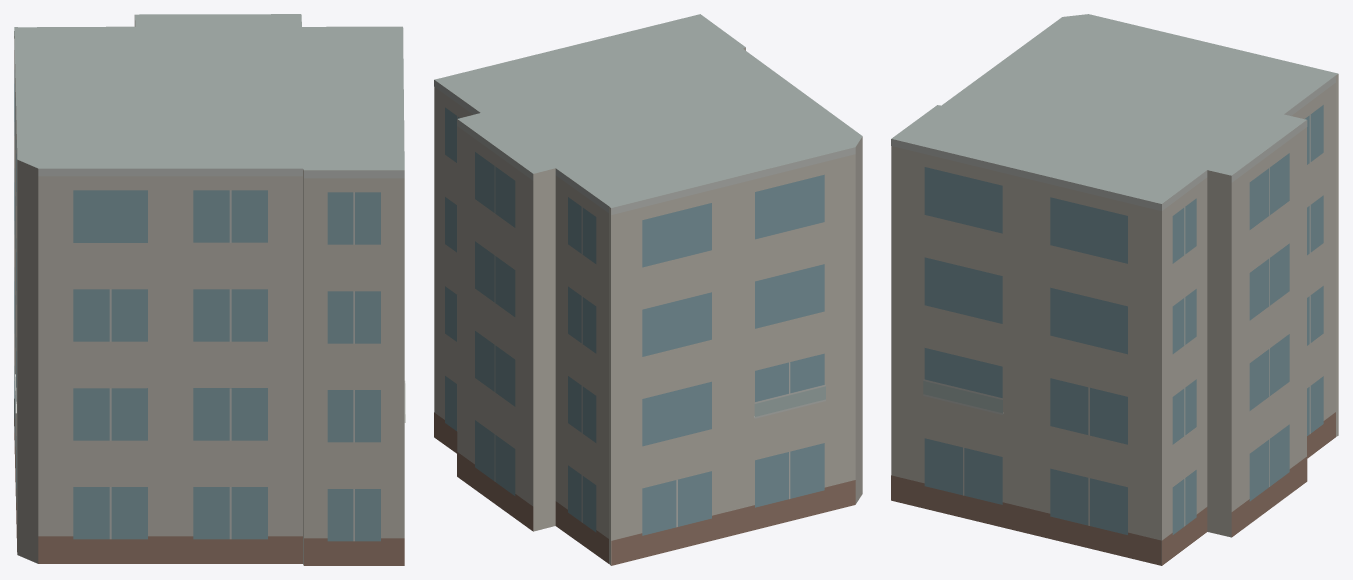
The model's file is survey-upis-32799695.glb.
3 renders of one model, left to right at view 1: azimuth 30°, elevation 25°; view 2: azimuth 150°, elevation 25°; view 3: azimuth 270°, elevation 25°, orthographic. The views are drawn at different scales.
Parts seen in each view (by area): view 1: survey-upis-32799695.tmp; view 2: survey-upis-32799695.tmp; view 3: survey-upis-32799695.tmp.
Part boxes in pixels (x1=…): survey-upis-32799695.tmp: x1=14, y1=14, x2=405, y2=565; survey-upis-32799695.tmp: x1=434, y1=14, x2=862, y2=565; survey-upis-32799695.tmp: x1=891, y1=14, x2=1338, y2=565.
Size of the model in its own units: 13.98 by 12.4 by 13.91.
